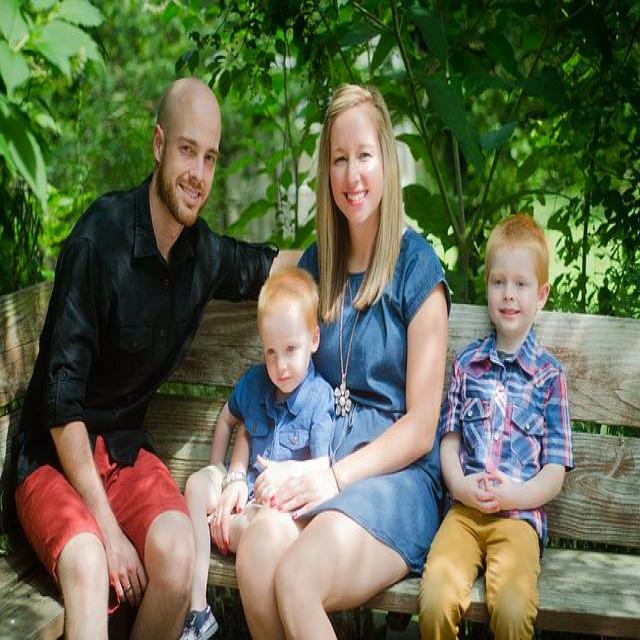adult: (8, 75, 306, 640), (210, 80, 451, 640)
child: (418, 212, 573, 640), (178, 270, 335, 640)
